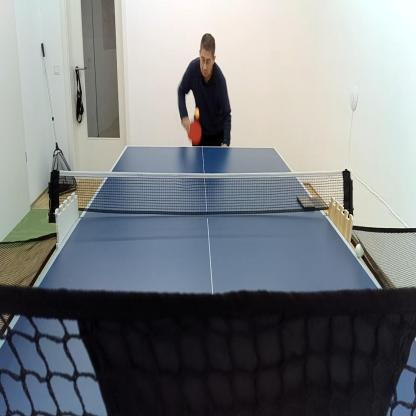Ball: (355, 241, 365, 260), (194, 106, 200, 121)
